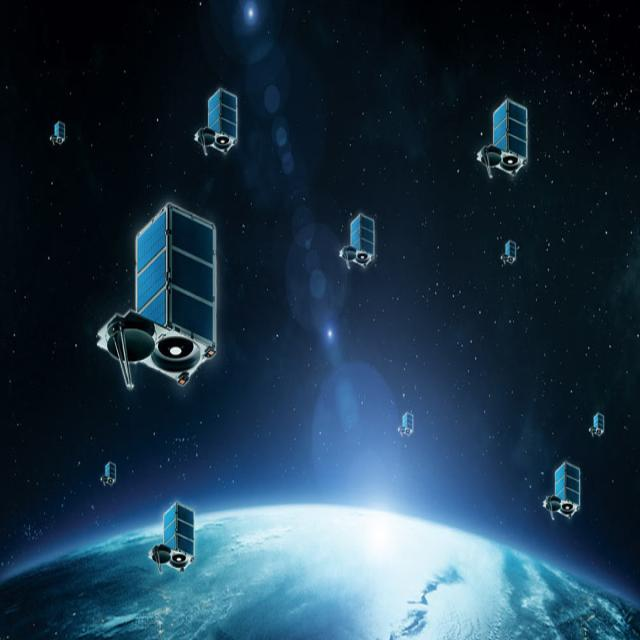medium_debris: (98, 202, 228, 399), (472, 94, 540, 188), (194, 80, 255, 163), (146, 498, 202, 578), (534, 449, 588, 531), (337, 202, 387, 290), (398, 402, 418, 448), (590, 406, 612, 446), (500, 233, 517, 275), (47, 119, 68, 153)
